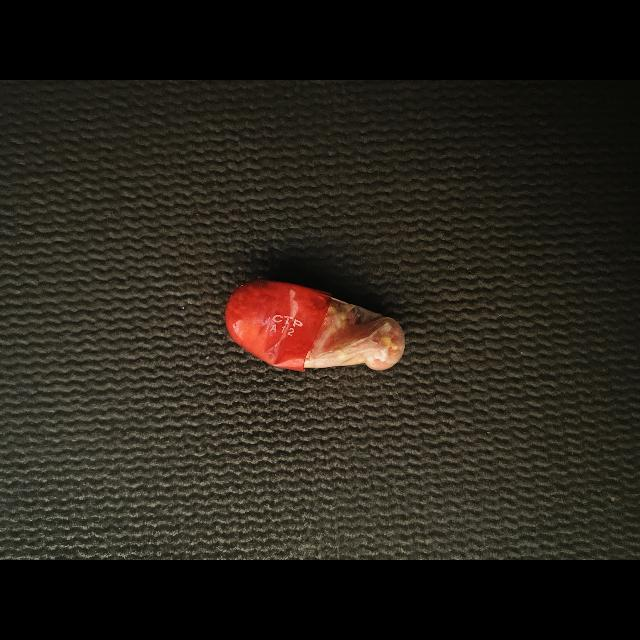Defective Capsule: (225, 281, 405, 372)
